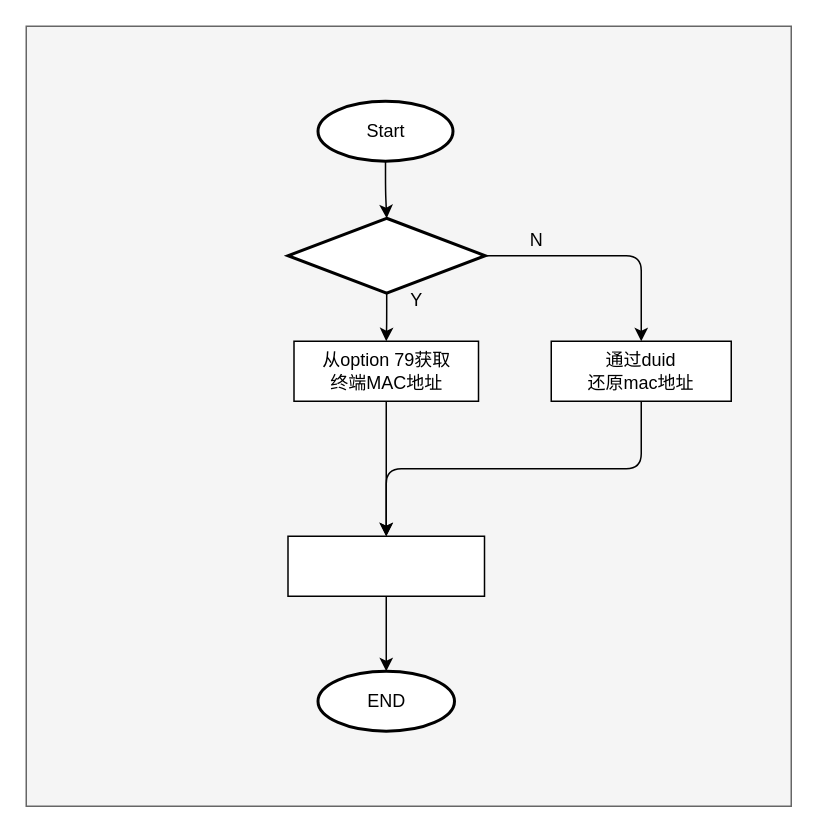
Some shapes in this 818 by 833 pixel diagram are drawn without their labels. Here are the shapes that lost their labels. From the top down, the centre of each, then its label:
At point 386,255: "判断是否携带 option 79".
At point 385,565: "通过EUI64 算法生成ipv6地址".
